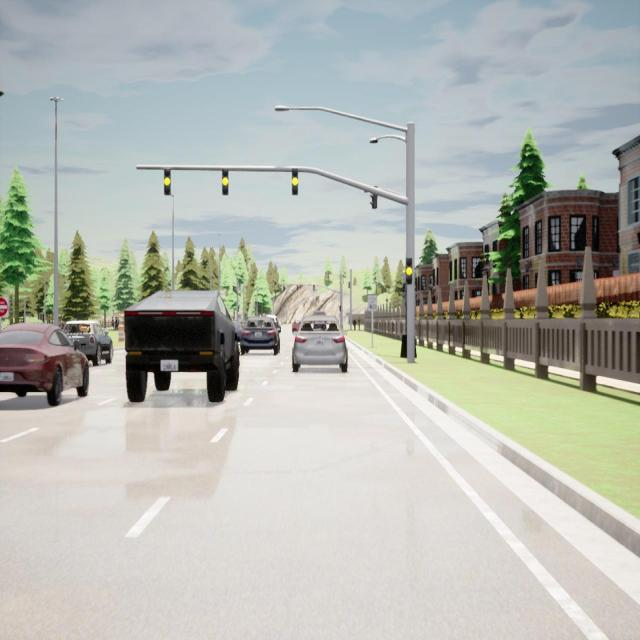Pedestrian: (357, 316, 361, 330), (111, 316, 114, 330), (114, 316, 117, 329), (353, 318, 356, 330), (117, 317, 119, 330)
Traffic_Signs: (0, 296, 9, 317), (368, 297, 377, 312)
Vehicle: (125, 290, 239, 401), (0, 324, 88, 404), (292, 316, 348, 372), (66, 320, 114, 366), (240, 315, 280, 356), (266, 314, 282, 332), (292, 318, 301, 336), (312, 311, 326, 315)
traffic_light: (164, 167, 171, 195), (370, 186, 378, 210), (222, 168, 229, 195), (292, 168, 298, 195), (406, 258, 412, 284), (296, 284, 299, 291), (284, 284, 286, 291), (339, 305, 341, 312), (313, 285, 315, 291), (348, 282, 350, 288)
